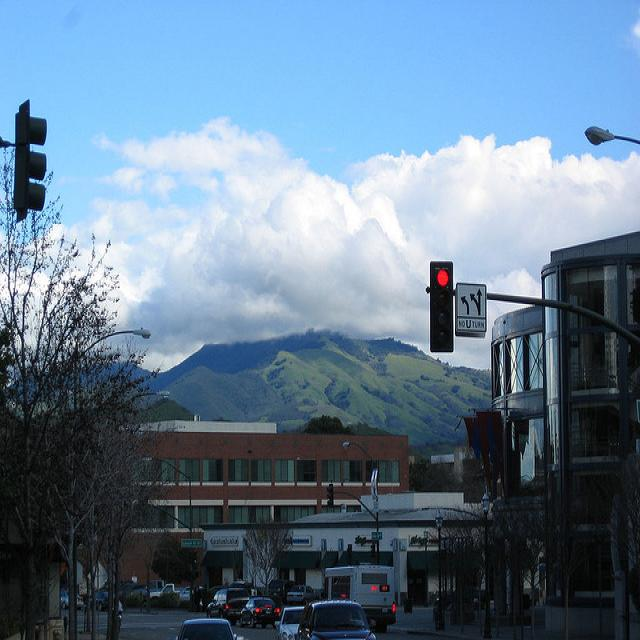Vehicle: (325, 565, 396, 633), (324, 569, 395, 629), (296, 598, 378, 640), (205, 586, 251, 627), (175, 618, 244, 640), (238, 596, 278, 627), (279, 605, 305, 639), (149, 584, 183, 604), (268, 580, 300, 601), (286, 586, 320, 604), (83, 591, 108, 611), (61, 590, 85, 610), (125, 584, 145, 604)
